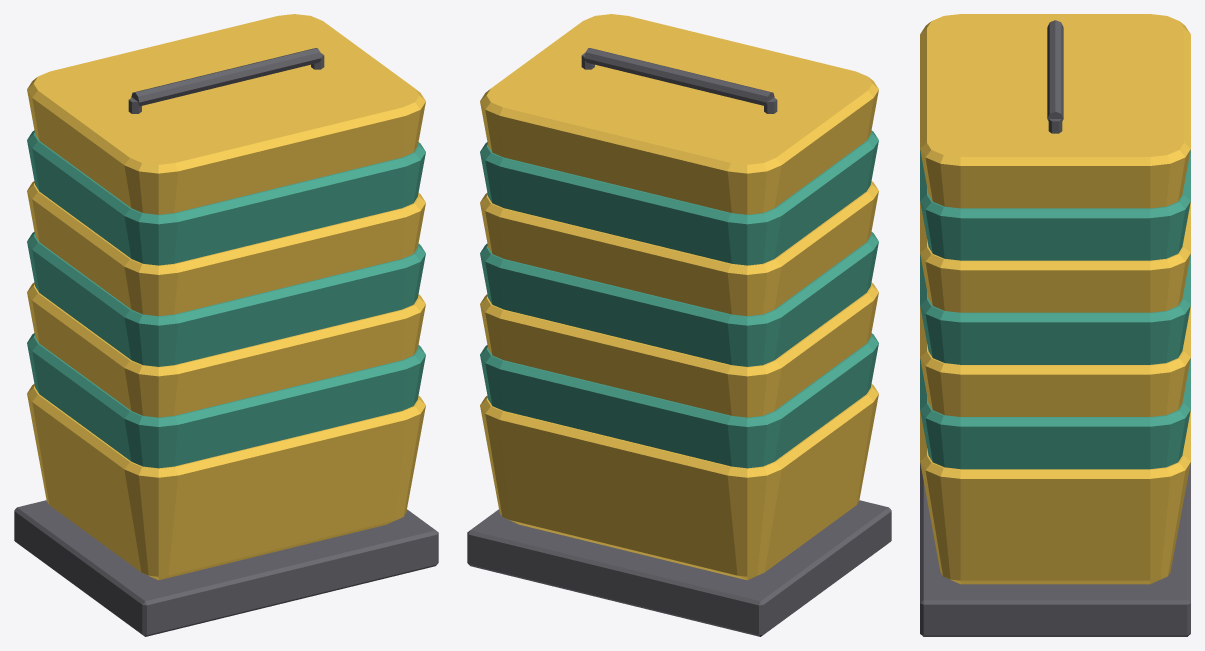
File: petrol-station-and-forecourt-shop-basket-stack-40e2ce9c__33975.glb
3 views of the same model, side by side, from view 1: azimuth 30°, elevation 25°; view 2: azimuth 150°, elevation 25°; view 3: azimuth 270°, elevation 25° (orthographic). The views are drawn at different scales.
Parts seen in each view (by area): view 1: basket-stack; view 2: basket-stack; view 3: basket-stack.
Boxes of the visible parts, box(x1,y1,x2,y2) form: basket-stack: box(14, 14, 438, 636); basket-stack: box(467, 14, 891, 636); basket-stack: box(920, 14, 1190, 636).
Bounding box in the file's own units: 0.52 × 0.812 × 0.4.
